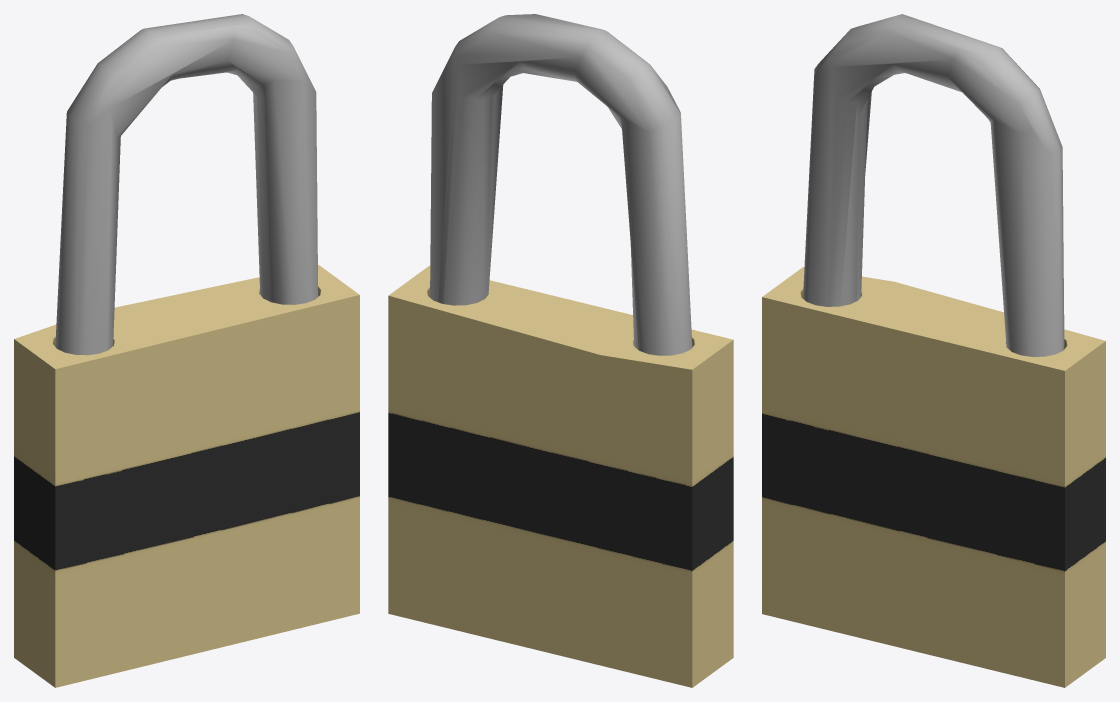
File: Padlock.fbx
3 renders of one model, left to right at view 1: azimuth 30°, elevation 25°; view 2: azimuth 150°, elevation 25°; view 3: azimuth 330°, elevation 25°, orthographic.
Parts seen in each view (by area): view 1: padlockup_low; view 2: padlockup_low; view 3: padlockup_low.
Boxes of the visible parts, x1,y1,x2,y2 form: padlockup_low: (14, 14, 359, 687); padlockup_low: (388, 14, 733, 687); padlockup_low: (762, 14, 1105, 687).
Bounding box in the file's own units: 26.77 × 51.58 × 7.48.
Materials: 1 (1 with a texture image).
